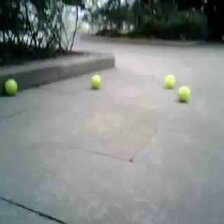tennis: (5, 79, 19, 95), (178, 86, 190, 102), (164, 76, 175, 89), (90, 75, 100, 87)
